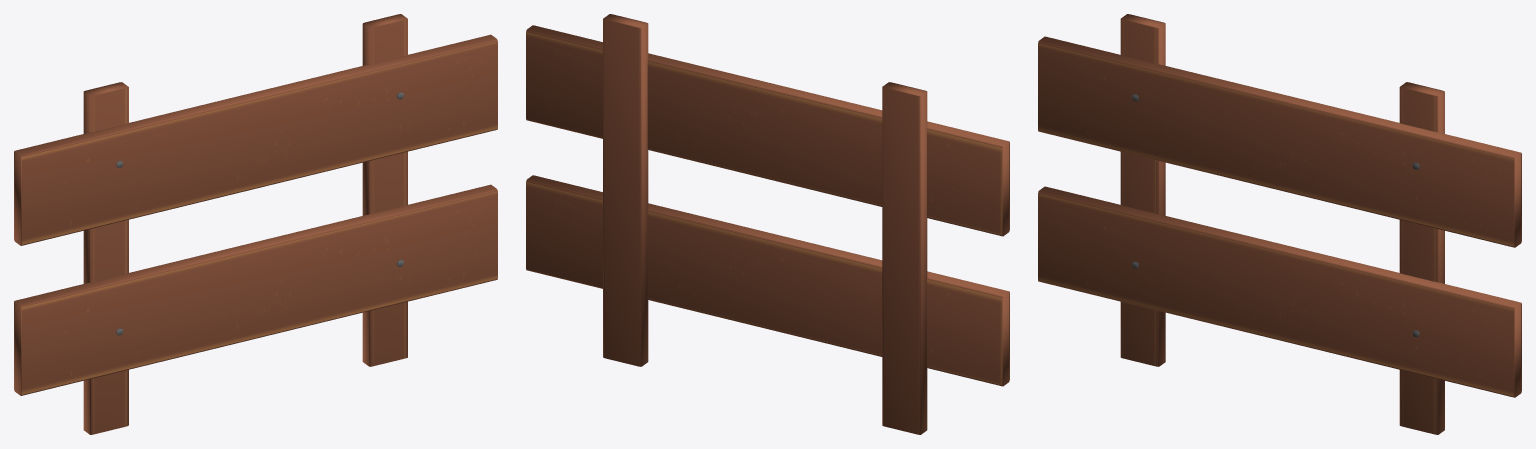
The model's file is pagar_2.fbx.
3 views of the same model, side by side, from view 1: azimuth 30°, elevation 25°; view 2: azimuth 150°, elevation 25°; view 3: azimuth 330°, elevation 25° (orthographic).
Visible parts, largest first — view 1: pagar_2; view 2: pagar_2; view 3: pagar_2.
Part boxes in pixels (x1=…): pagar_2: x1=14, y1=14, x2=497, y2=434; pagar_2: x1=526, y1=14, x2=1009, y2=434; pagar_2: x1=1038, y1=14, x2=1521, y2=434.
Bounding box in the file's own units: 522 × 354 × 28.02.
